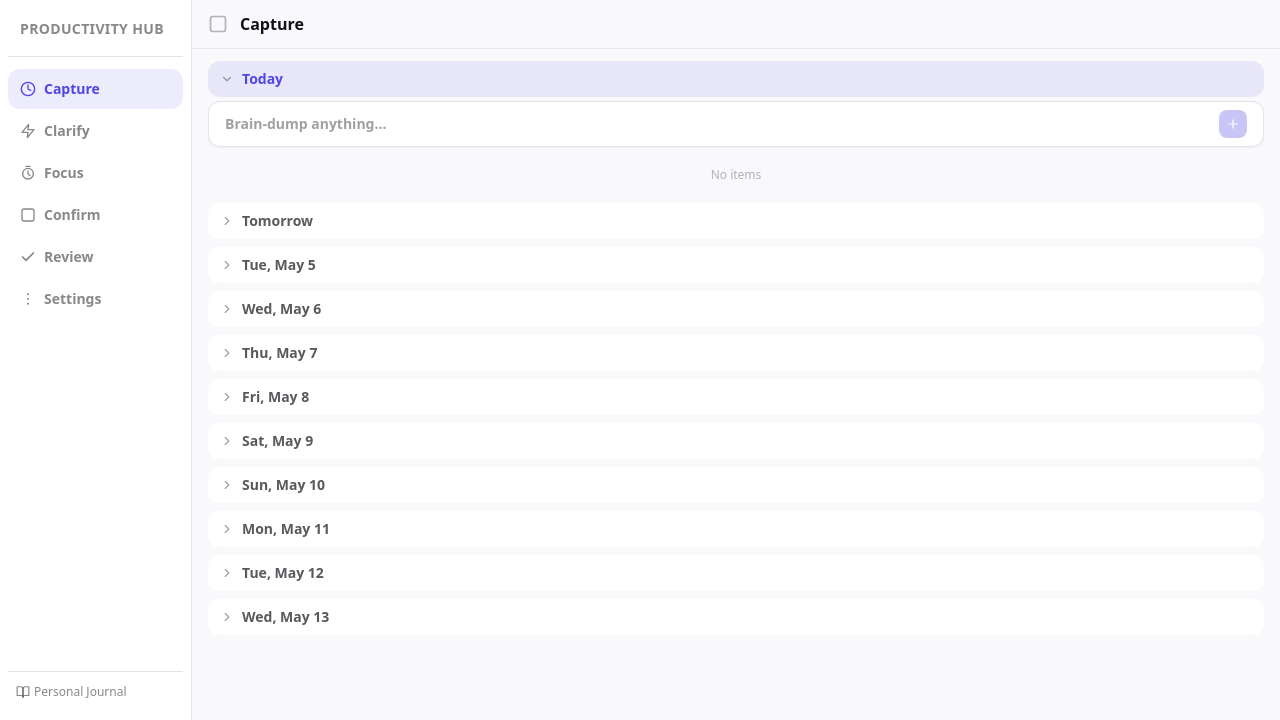
App Shell › T2-14: clicking a nav tab renders the corresponding section
The width and height of the screenshot is (1280, 720).
Click the button with aria-label "Go to Clarify" at (96, 131), box [8, 111, 183, 151]
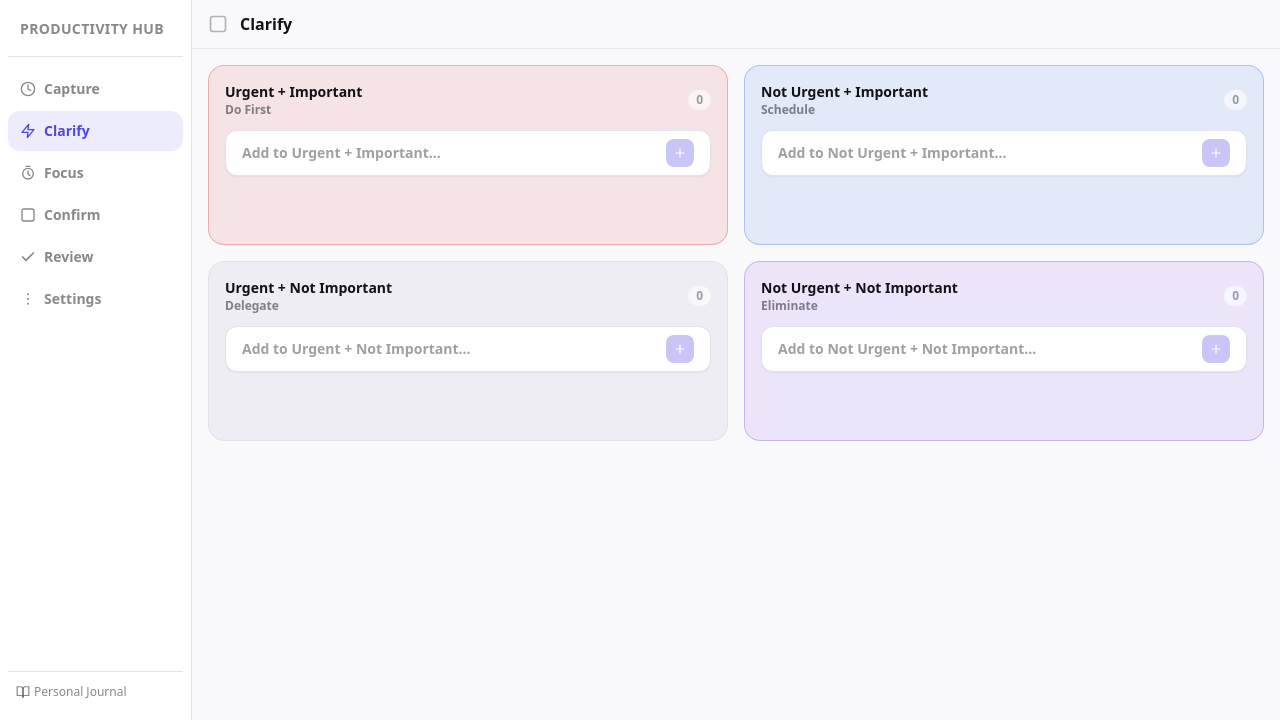
Now the heading "Urgent + Important" is shown, box [225, 82, 362, 102]
Now the heading "Not Urgent + Important" is shown, box [761, 82, 928, 102]
